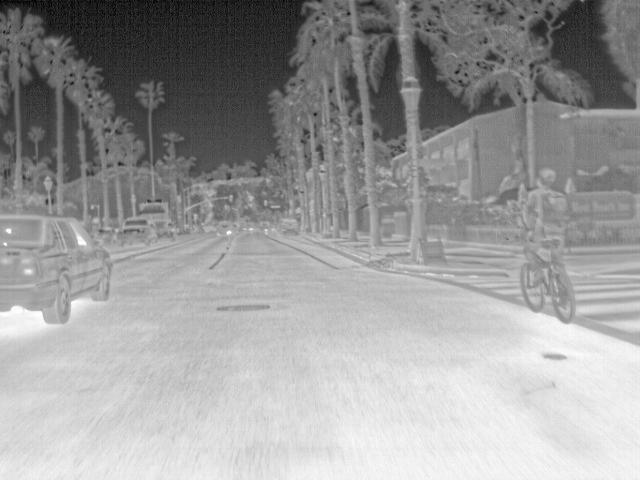car: (0, 209, 114, 325), (114, 220, 154, 248), (276, 218, 299, 237)
person: (515, 167, 574, 307)
